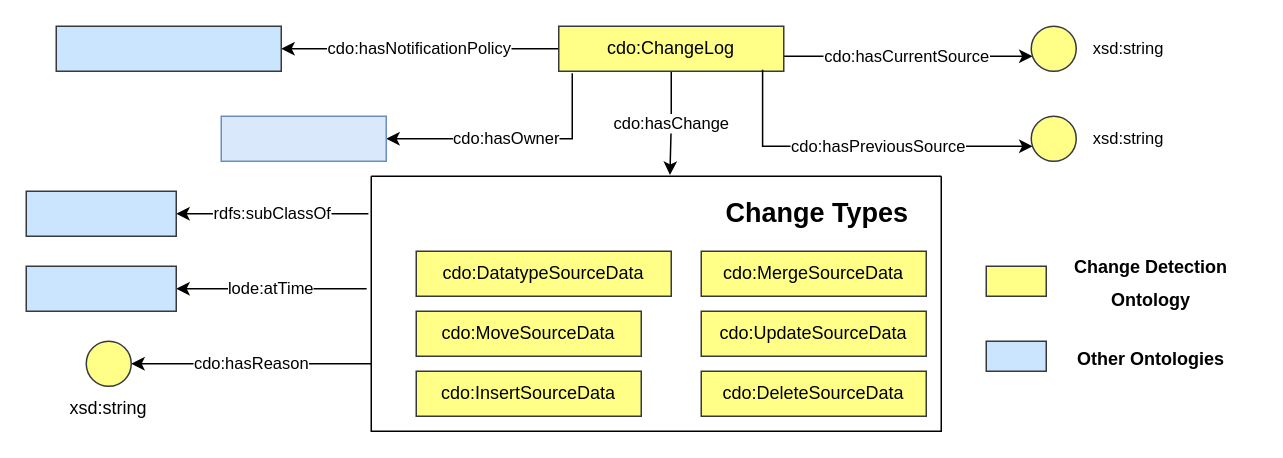
Image size: 1283x458. Some labels were removed from this diagram. The centre of each missing label's shape, as x and y in pixels:
"dul:Agent" goes at (303,138).
"lode:Event" goes at (100,213).
"rei-policy:Policy" goes at (168,48).
"time:Instant" goes at (100,288).
